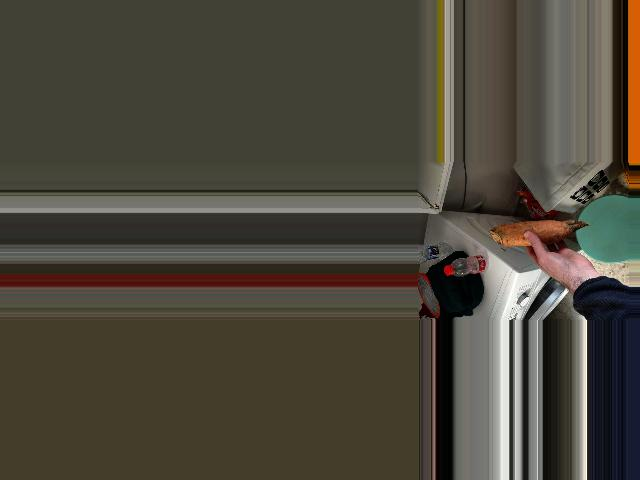sweet_potato: (499, 221, 582, 250)
